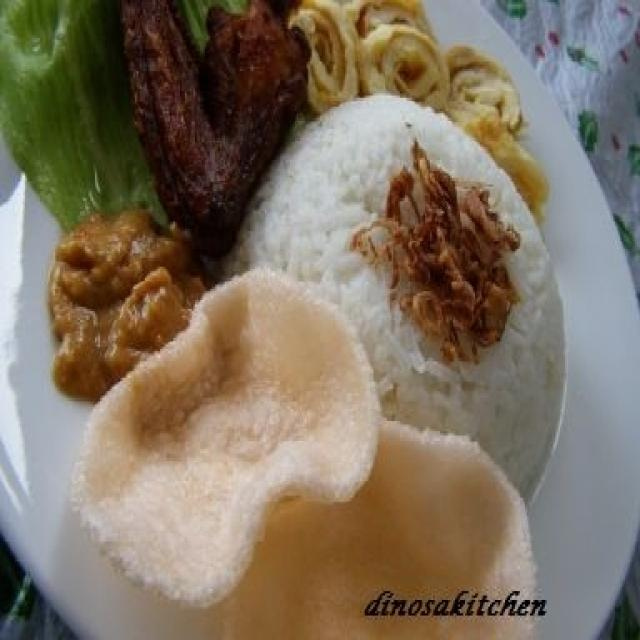米饭主食: (21, 27, 612, 604)
